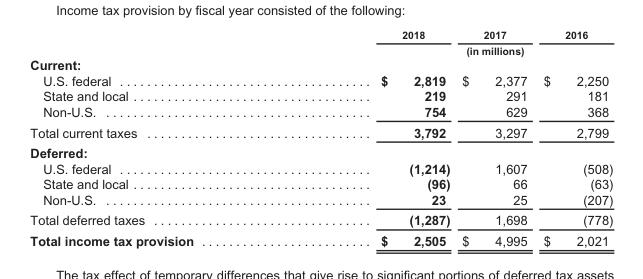table: (29, 28, 612, 247)
table column: (29, 28, 286, 247), (286, 28, 455, 247), (455, 28, 534, 247), (534, 28, 612, 247)
table column header: (29, 28, 612, 56)
table projected row header: (29, 142, 612, 160), (29, 56, 612, 72)
table row: (29, 121, 612, 142), (29, 209, 612, 230), (29, 103, 612, 121), (29, 142, 612, 160), (29, 191, 612, 209), (29, 230, 612, 247), (29, 56, 612, 72), (29, 87, 612, 103), (29, 175, 612, 191), (29, 72, 612, 87), (29, 160, 612, 175), (29, 28, 612, 42), (29, 42, 612, 56)
table spanning cell: (286, 42, 612, 56)
